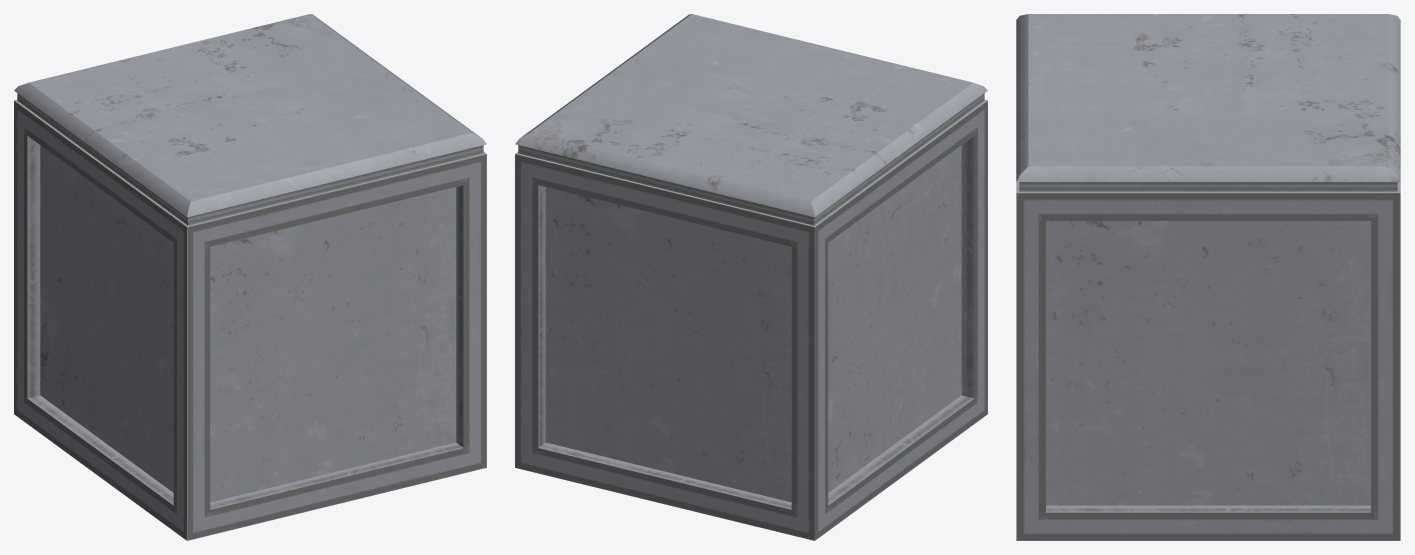
Rendered from Fbx_Props_LabEq_Crate_Base - Copy.fbx.
3 views of the same model, side by side, from view 1: azimuth 30°, elevation 25°; view 2: azimuth 150°, elevation 25°; view 3: azimuth 270°, elevation 25° (orthographic). The views are drawn at different scales.
Visible parts, largest first — view 1: Basic_Crate_Square; view 2: Basic_Crate_Square; view 3: Basic_Crate_Square.
Boxes of the visible parts, x1,y1,x2,y2 form: Basic_Crate_Square: (14,14,486,540); Basic_Crate_Square: (515,14,987,540); Basic_Crate_Square: (1016,14,1400,540).
Size of the model in its own units: 100 by 106 by 100.
